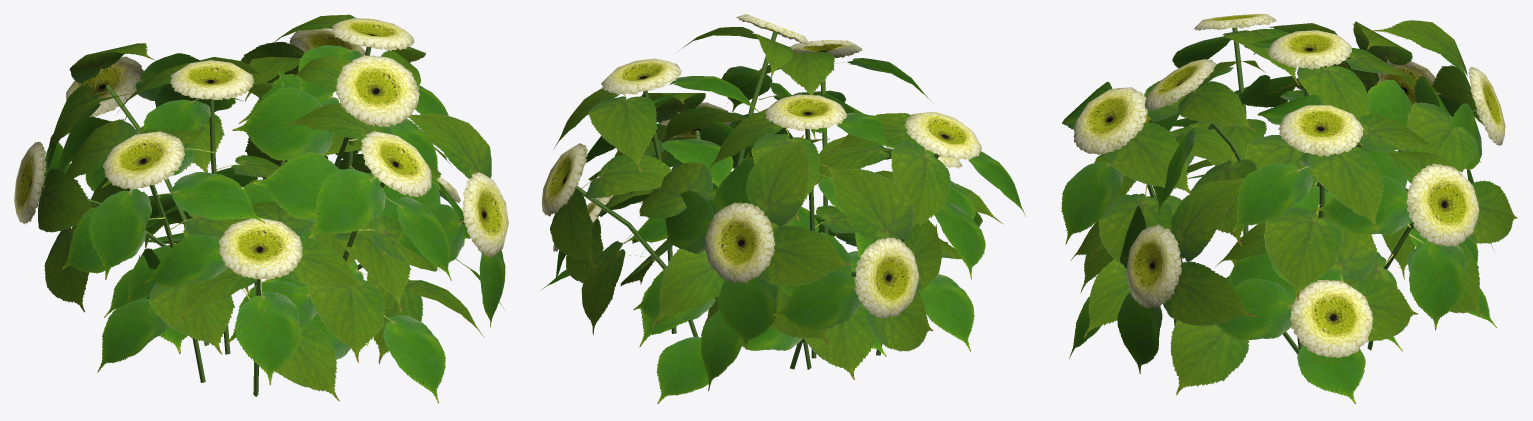
File: NaturePlant02_4.FBX
3 renders of one model, left to right at view 1: azimuth 30°, elevation 25°; view 2: azimuth 150°, elevation 25°; view 3: azimuth 270°, elevation 25°, orthographic. The views are drawn at different scales.
Parts seen in each view (by area): view 1: NaturePlant02_4; view 2: NaturePlant02_4; view 3: NaturePlant02_4.
Boxes of the visible parts, x1=… form: NaturePlant02_4: x1=14, y1=14, x2=508, y2=403; NaturePlant02_4: x1=540, y1=14, x2=1026, y2=403; NaturePlant02_4: x1=1061, y1=14, x2=1517, y2=403.
Size of the model in its own units: 0.5943 by 0.4044 by 0.5579.
